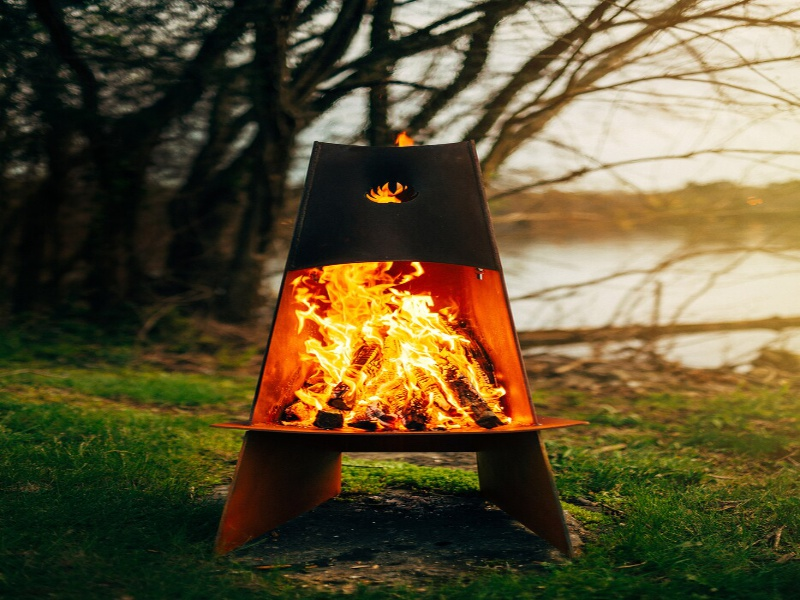fire: (289, 264, 496, 427), (365, 184, 404, 203), (397, 127, 415, 147)
